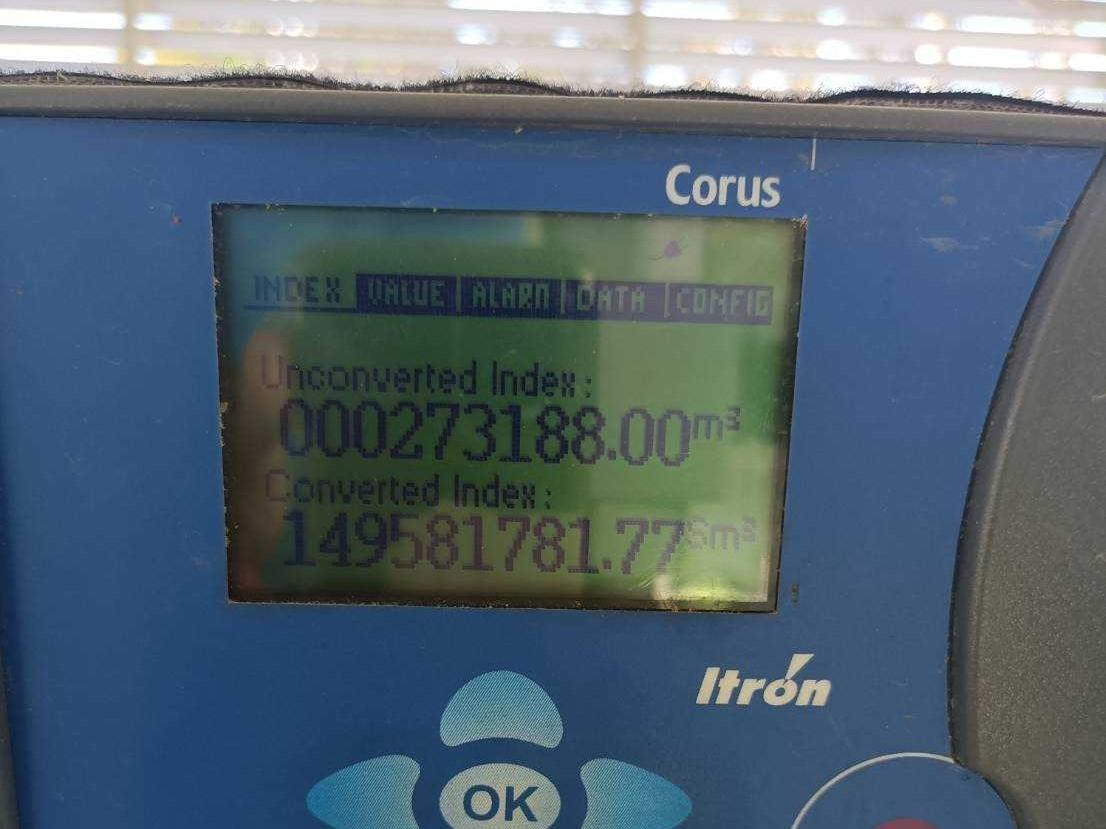digital_screen: (210, 204, 804, 612)
